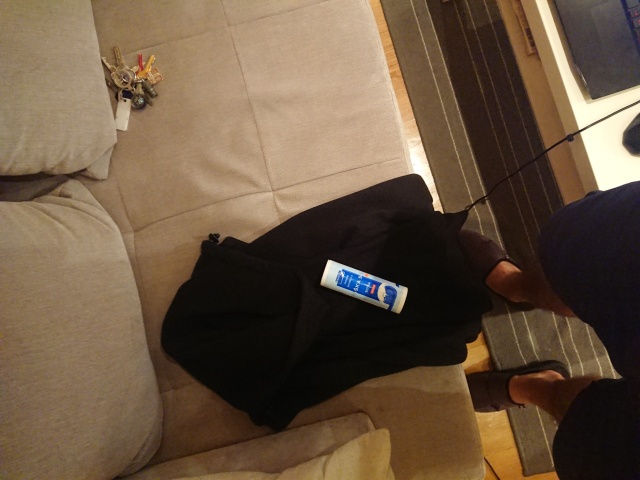Solana Pag Fine Sea Salt 250g: (317, 256, 410, 316)
